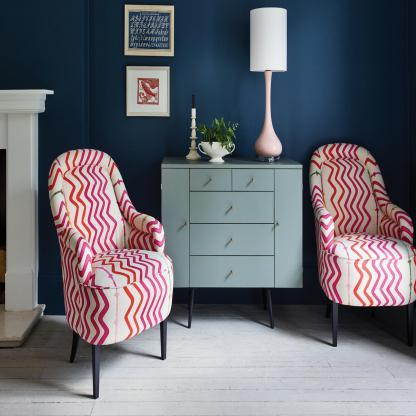chair: (44, 144, 177, 397), (307, 124, 416, 364)
light: (245, 2, 301, 162)
